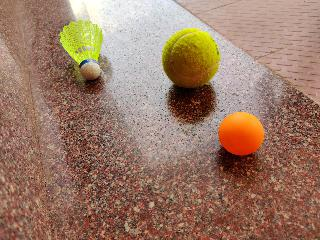shuttlecock: (59, 20, 103, 80)
